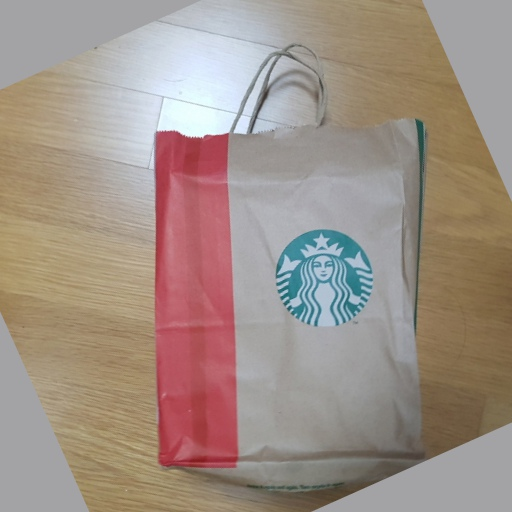Paper_0: (147, 112, 441, 504)
